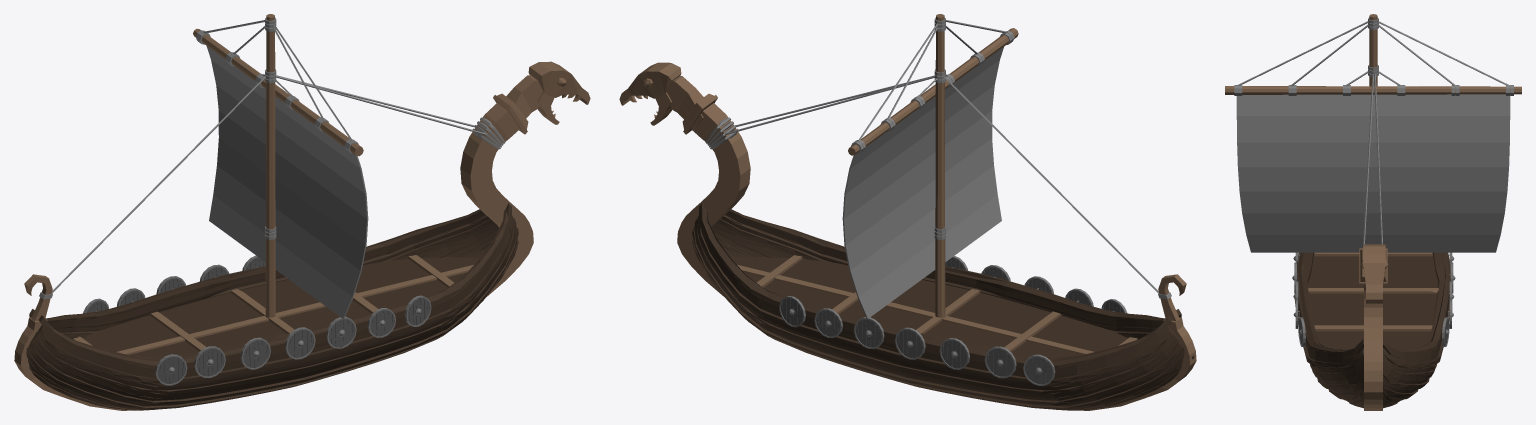
The model's file is SM_longboat_small_01_empty.fbx.
3 renders of one model, left to right at view 1: azimuth 30°, elevation 25°; view 2: azimuth 150°, elevation 25°; view 3: azimuth 270°, elevation 25°, orthographic. The views are drawn at different scales.
Visible parts, largest first — view 1: Object559; view 2: Object559; view 3: Object559.
Boxes of the visible parts, box(x1,y1,x2,y2) form: Object559: box(14, 14, 590, 410); Object559: box(619, 14, 1196, 410); Object559: box(1225, 14, 1521, 410).
Size of the model in its own units: 530 by 327 by 262.
